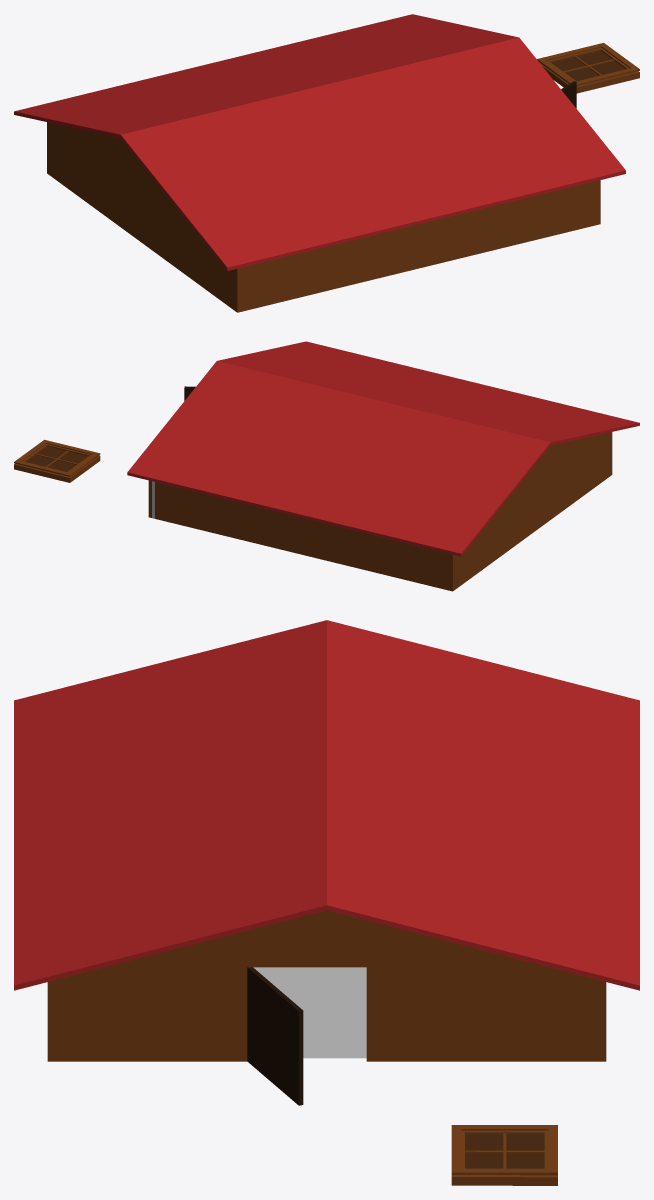
The model's file is Estufa 1.fbx.
3 renders of one model, top to bottom at view 1: azimuth 30°, elevation 25°; view 2: azimuth 150°, elevation 25°; view 3: azimuth 270°, elevation 25°, orthographic. The views are drawn at different scales.
Visible parts, largest first — view 1: Estufa, plantacao; view 2: Estufa, plantacao; view 3: Estufa, porta, plantacao.
Part boxes in pixels (box(x1,y1,x2,y2)): Estufa: box(14, 14, 625, 312); plantacao: box(537, 43, 639, 93); Estufa: box(127, 341, 639, 591); plantacao: box(14, 439, 100, 482); Estufa: box(14, 620, 639, 1061); porta: box(247, 967, 303, 1105); plantacao: box(451, 1125, 557, 1185).
Size of the model in its own units: 3295 by 636 by 2168.
